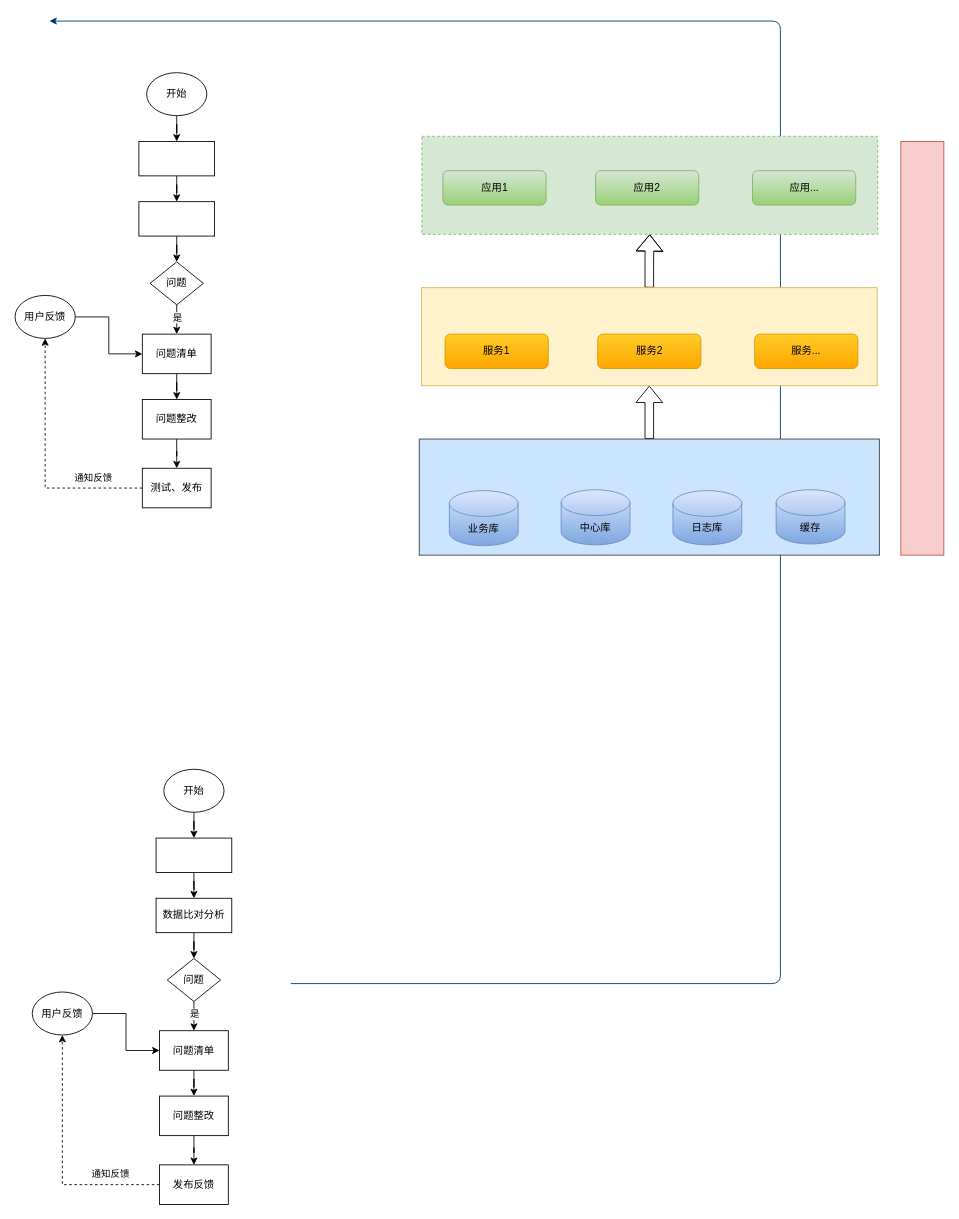
Image size: 959x1219. Some labels were removed from this diagram. The shapes that lost their labels are listed below. From the top down, each one's box as (x1, y1, x2, y2) in pixels, then its label:
(138, 141, 215, 176): 事项梳理
(138, 201, 215, 236): 定期巡检
(421, 287, 877, 386): 微服务
(900, 141, 944, 555): 日志安全服务
(418, 438, 879, 555): 数据存储
(155, 837, 232, 872): 数据准备
